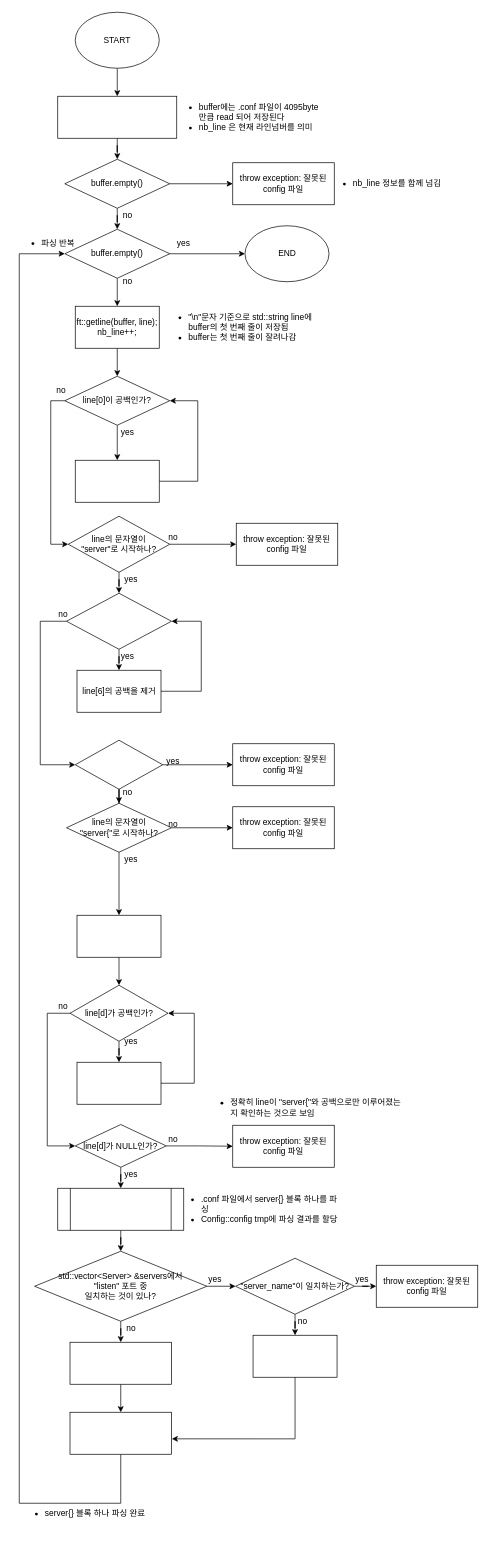
Image size: 490x1551. Some labels were removed from this diagram. Each missing label, with the box of its shape:
d = 7: (76, 915, 161, 957)
getContent(buffer, context, line, nb_line, tmp): (57, 1188, 184, 1230)
line[0]의 공백을 제거: (75, 460, 159, 502)
line[6] != '{': (75, 740, 163, 789)
line[6]이 공백인가?: (66, 593, 172, 649)
line[d]의 공백을 제거: (76, 1062, 161, 1104)
server . _conf . clear (); tmp . clear (); context . clear ();: (69, 1412, 172, 1454)
std::string buffer = readFile(file); int nb_line = 0;: (57, 96, 177, 138)
벡터 servers에, tmp 정보를 담은 새로운 server를 추가: (69, 1342, 172, 1384)
해당 server의 _conf에 tmp를 할당: (252, 1335, 337, 1377)
